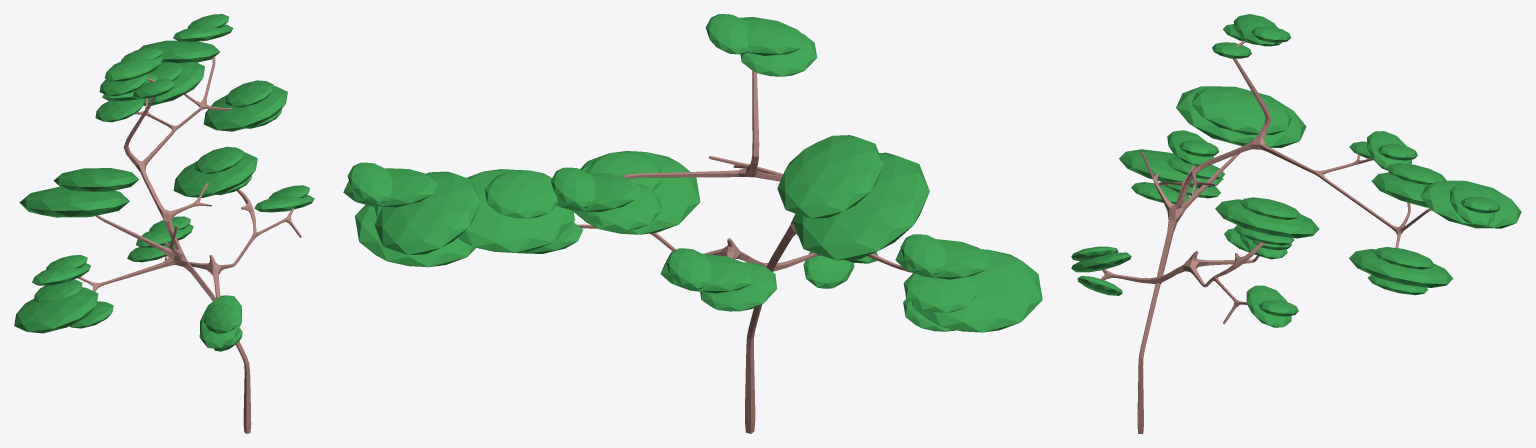
Rendered from tree1_gamejam.fbx.
The picture shows the model from 3 angles, left to right: view 1: azimuth 30°, elevation 25°; view 2: azimuth 150°, elevation 25°; view 3: azimuth 270°, elevation 25°; orthographic projection. The views are drawn at different scales.
Visible parts, largest first — view 1: Cube, Icosphere.020, Icosphere.024, Icosphere.010, Icosphere.003, Icosphere.019, Icosphere.001, Icosphere.002, Icosphere.029, Icosphere.018, Icosphere.004, Icosphere.009 (+17 smaller); view 2: Icosphere.020, Icosphere.019, Icosphere.001, Icosphere.024, Cube, Icosphere.002, Icosphere.010, Icosphere.007, Icosphere.003, Icosphere.023, Icosphere.018, Icosphere.028 (+14 smaller); view 3: Cube, Icosphere.019, Icosphere.020, Icosphere.001, Icosphere.010, Icosphere.003, Icosphere.024, Icosphere.002, Icosphere.012, Icosphere, Icosphere.004, Icosphere.009 (+17 smaller).
Part boxes in pixels (x1,y1,x2,y2): Cube: (77,56,301,433); Icosphere.020: (19,186,129,217); Icosphere.024: (14,287,98,333); Icosphere.010: (173,152,257,197); Icosphere.003: (203,86,287,131); Icosphere.019: (53,168,139,191); Icosphere.001: (139,40,219,63); Icosphere.002: (143,62,204,105); Icosphere.029: (199,295,241,348); Icosphere.018: (104,56,162,81); Icosphere.004: (225,80,273,107); Icosphere.009: (195,146,243,173); Icosphere.020: (793,152,929,260); Icosphere.019: (777,135,883,218); Icosphere.001: (374,171,480,254); Icosphere.024: (912,249,1042,332); Cube: (577,70,912,433); Icosphere.002: (457,169,574,252); Icosphere.010: (573,151,700,234); Icosphere.007: (484,170,557,218); Icosphere.003: (355,205,475,267); Icosphere.023: (904,273,978,312); Icosphere.018: (740,17,806,55); Icosphere.028: (700,262,776,311); Cube: (1100,41,1431,433); Icosphere.019: (1191,87,1292,135); Icosphere.020: (1176,86,1306,147); Icosphere.001: (1420,180,1521,228); Icosphere.010: (1215,199,1319,238); Icosphere.003: (1349,249,1453,287); Icosphere.024: (1119,149,1223,188); Icosphere.002: (1371,172,1428,207); Icosphere.012: (1246,285,1291,327); Icosphere: (1450,183,1494,225); Icosphere.004: (1374,247,1434,269); Icosphere.009: (1240,197,1300,219).
Size of the model in its own units: 679 by 613 by 655.
